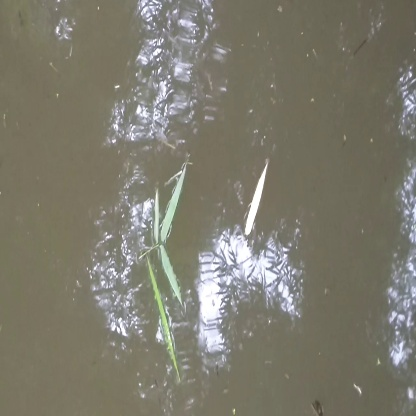leaf: (134, 170, 216, 381)
